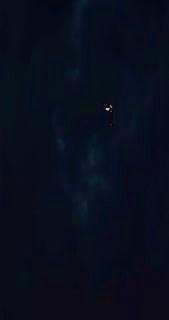Plane: (98, 98, 118, 118)
